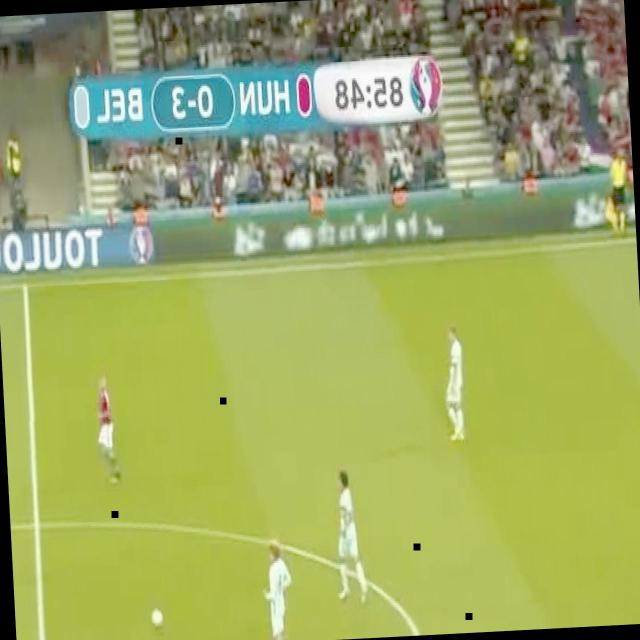ball: (150, 609, 163, 627)
player-white: (332, 468, 366, 603), (259, 535, 301, 640), (94, 371, 121, 484), (441, 325, 467, 441), (608, 145, 628, 240)
